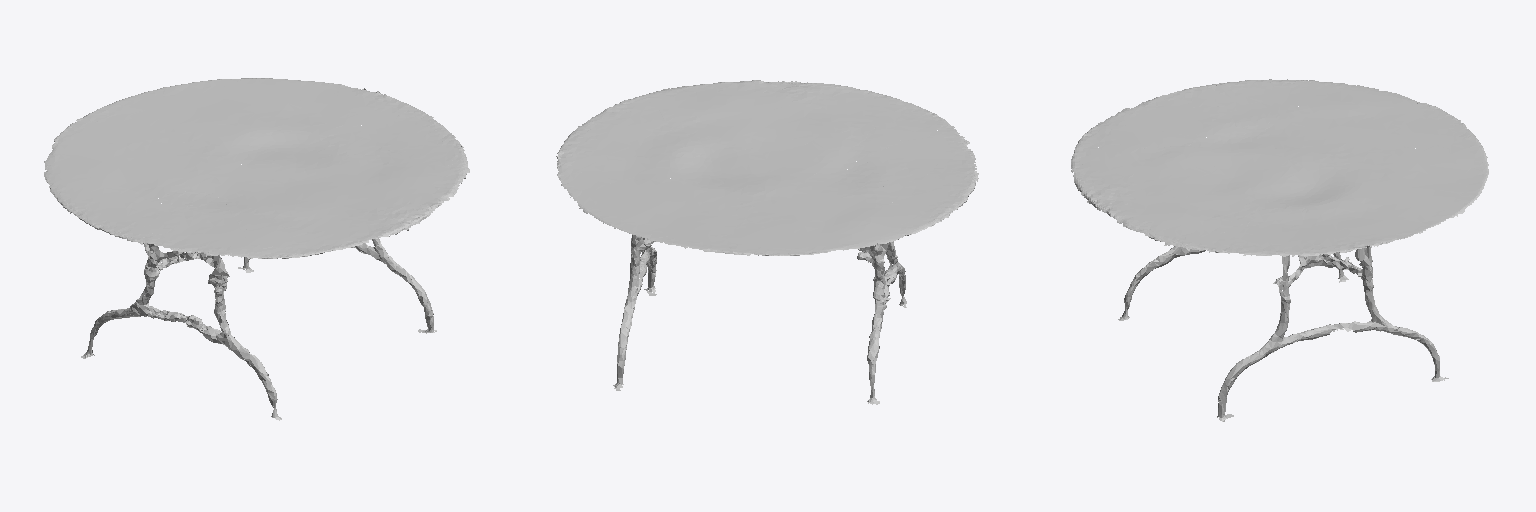
The model's file is cropped-mainobj.obj.
3 views of the same model, side by side, from view 1: azimuth 30°, elevation 25°; view 2: azimuth 150°, elevation 25°; view 3: azimuth 270°, elevation 25° (orthographic).
Visible parts, largest first — view 1: poly; view 2: poly; view 3: poly.
Boxes of the visible parts, x1,y1,x2,y2 form: poly: [44, 78, 469, 420]; poly: [556, 80, 978, 404]; poly: [1071, 79, 1488, 421].
Size of the model in its own units: 1.56 by 0.7396 by 1.53.